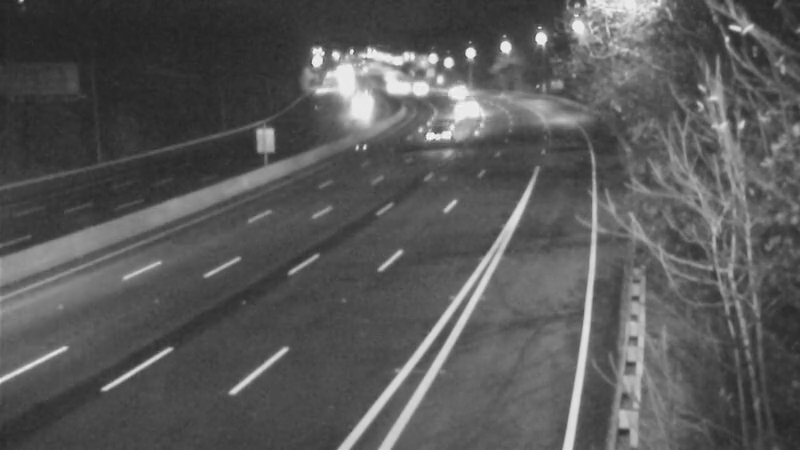vehicle: (364, 62, 414, 112), (391, 62, 441, 112), (429, 73, 479, 123), (438, 91, 488, 141), (411, 113, 461, 163), (334, 83, 384, 133)
